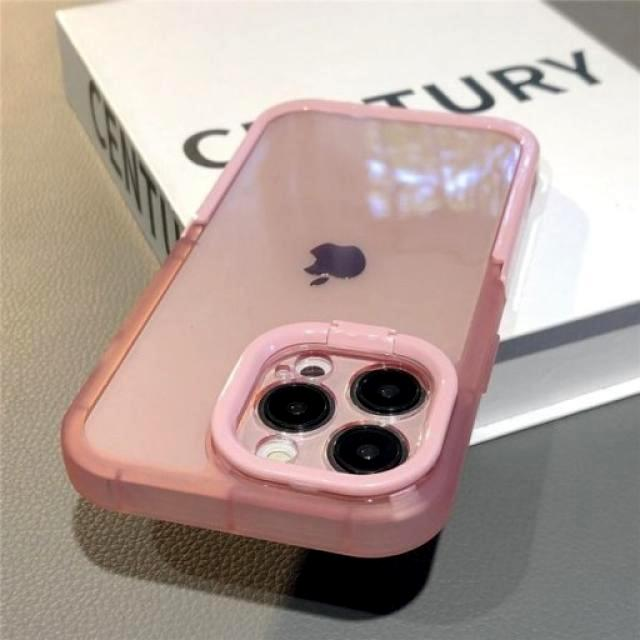lens_back: (344, 349, 432, 425), (322, 418, 414, 485), (246, 369, 337, 435), (534, 411, 535, 412)
phone: (53, 93, 537, 567)
